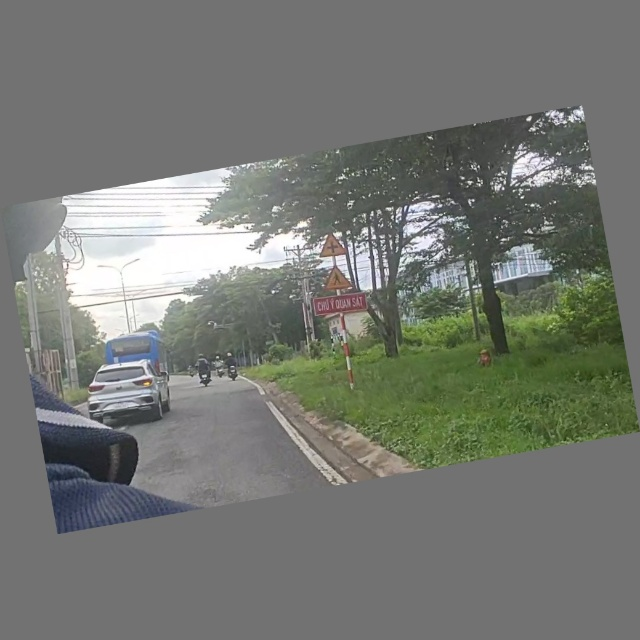W.205a: (316, 230, 351, 262)
W.224: (318, 262, 357, 294)
